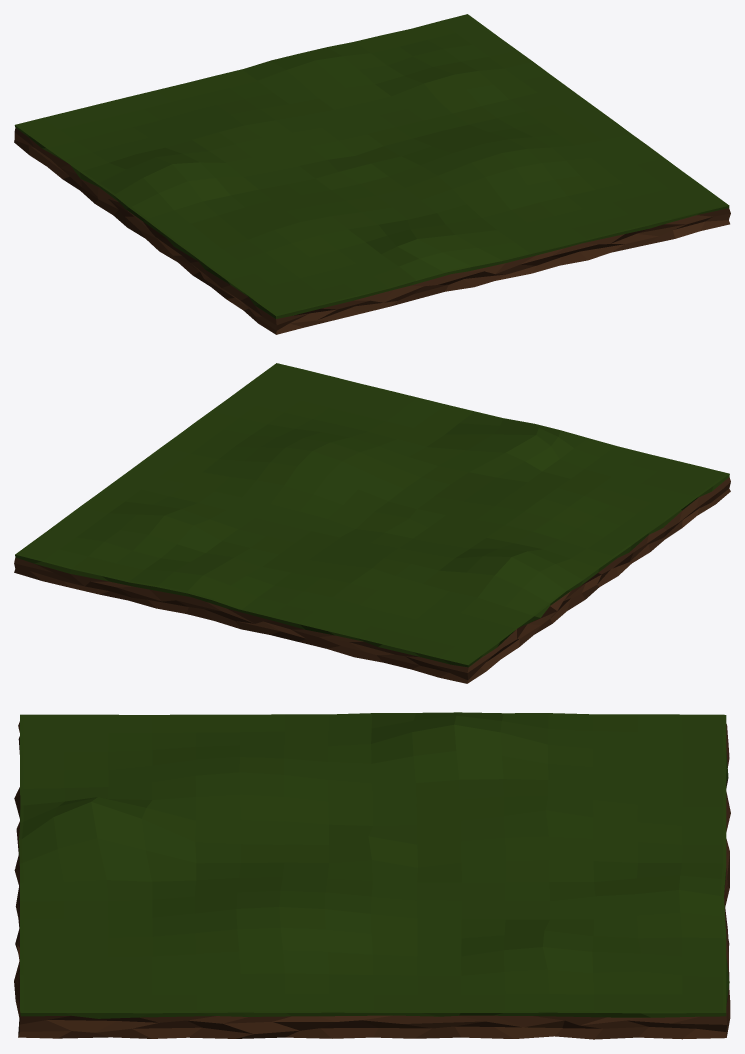
Rendered from Grass.glb.glb.
3 views of the same model, one above another, from view 1: azimuth 30°, elevation 25°; view 2: azimuth 150°, elevation 25°; view 3: azimuth 270°, elevation 25° (orthographic). The views are drawn at different scales.
Parts seen in each view (by area): view 1: Cesped 2; view 2: Cesped 2; view 3: Cesped 2.
Part boxes in pixels (x1,y1,x2,y2): Cesped 2: (14,14,730,334); Cesped 2: (14,363,730,683); Cesped 2: (14,712,730,1039).
Bounding box in the file's own units: 60.69 × 4.9 × 60.58.
